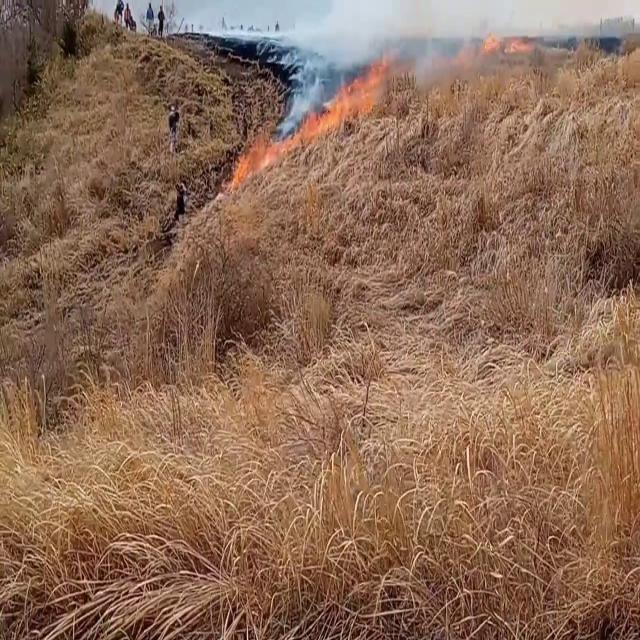Fire: (314, 60, 388, 140), (228, 118, 280, 192)
Smoke: (283, 7, 372, 100)
